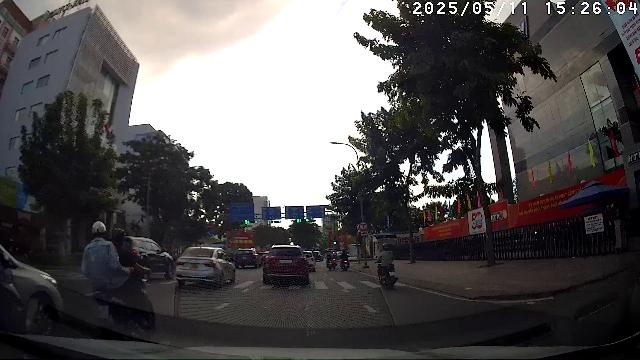137-cam-re-trai-va-re-phai: (358, 222, 368, 230)
